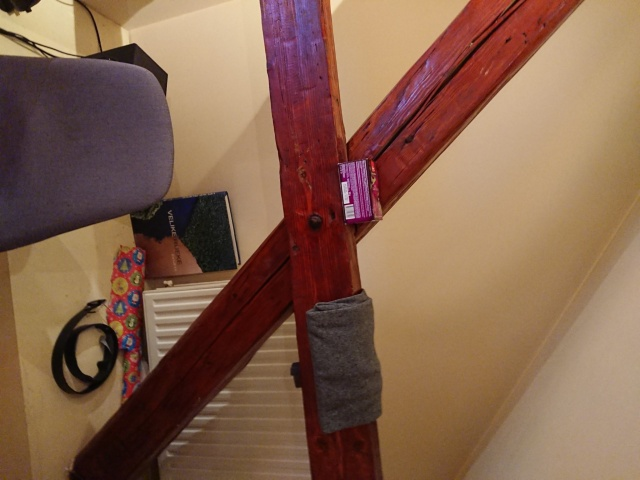Franck Black Currant Tea 60g: (334, 155, 386, 227)
